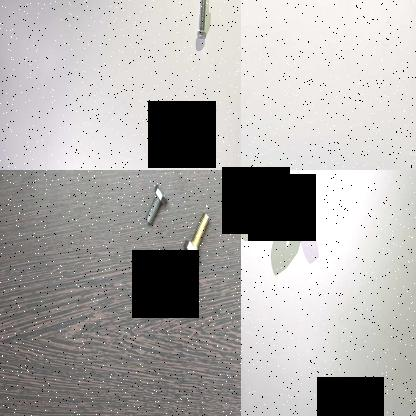Bolts: (181, 210, 214, 266), (144, 180, 170, 230), (196, 0, 209, 48)
NUTS: (289, 184, 309, 234), (244, 194, 264, 226)
